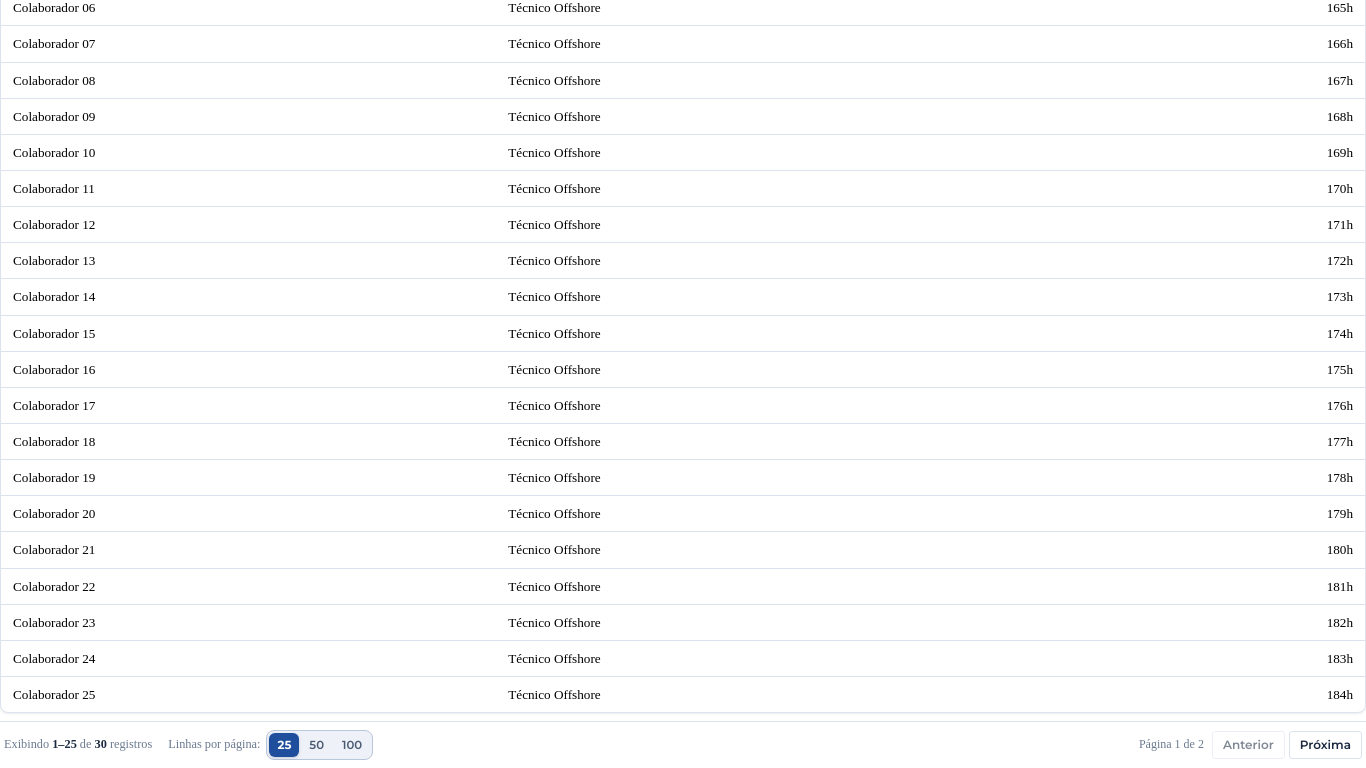
Test case: DataTable (Componente de Tabelas Corporativas) › navega entre páginas usando os botões "Próxima" e "Anterior"
The image size is (1366, 768).
(page scrolled)
Expected: the button "Anterior" is disabled, x1=1212 y1=731 x2=1285 y2=759
Click the button "Próxima" at [1325, 745], box x1=1289 y1=731 x2=1362 y2=759
(page scrolled)
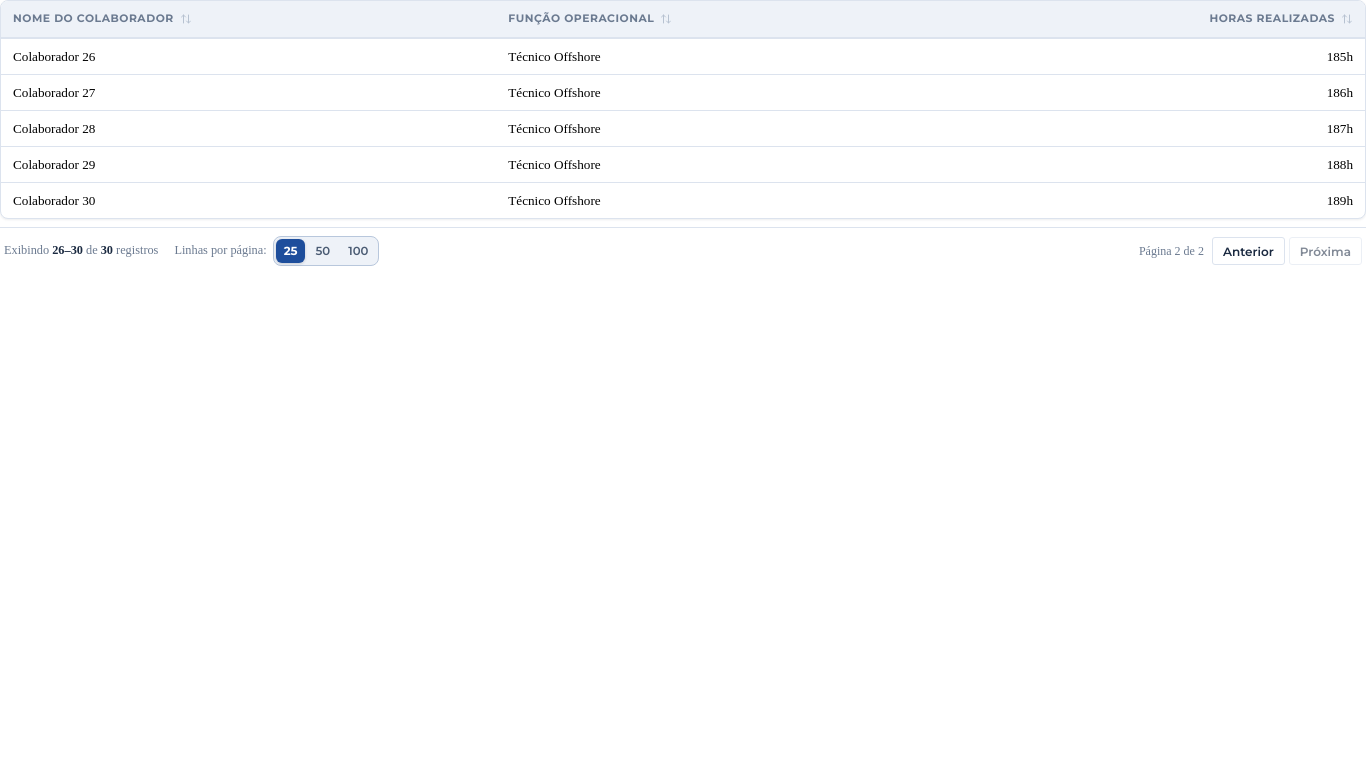
Now the text "Página 2 de 2" is shown, box x1=1139 y1=243 x2=1204 y2=260
Now the text "Colaborador 26" is shown, box x1=1 y1=38 x2=496 y2=74
Now the button "Próxima" is disabled, box x1=1289 y1=237 x2=1362 y2=265
Click the button "Anterior" at [1248, 251], box x1=1212 y1=237 x2=1285 y2=265
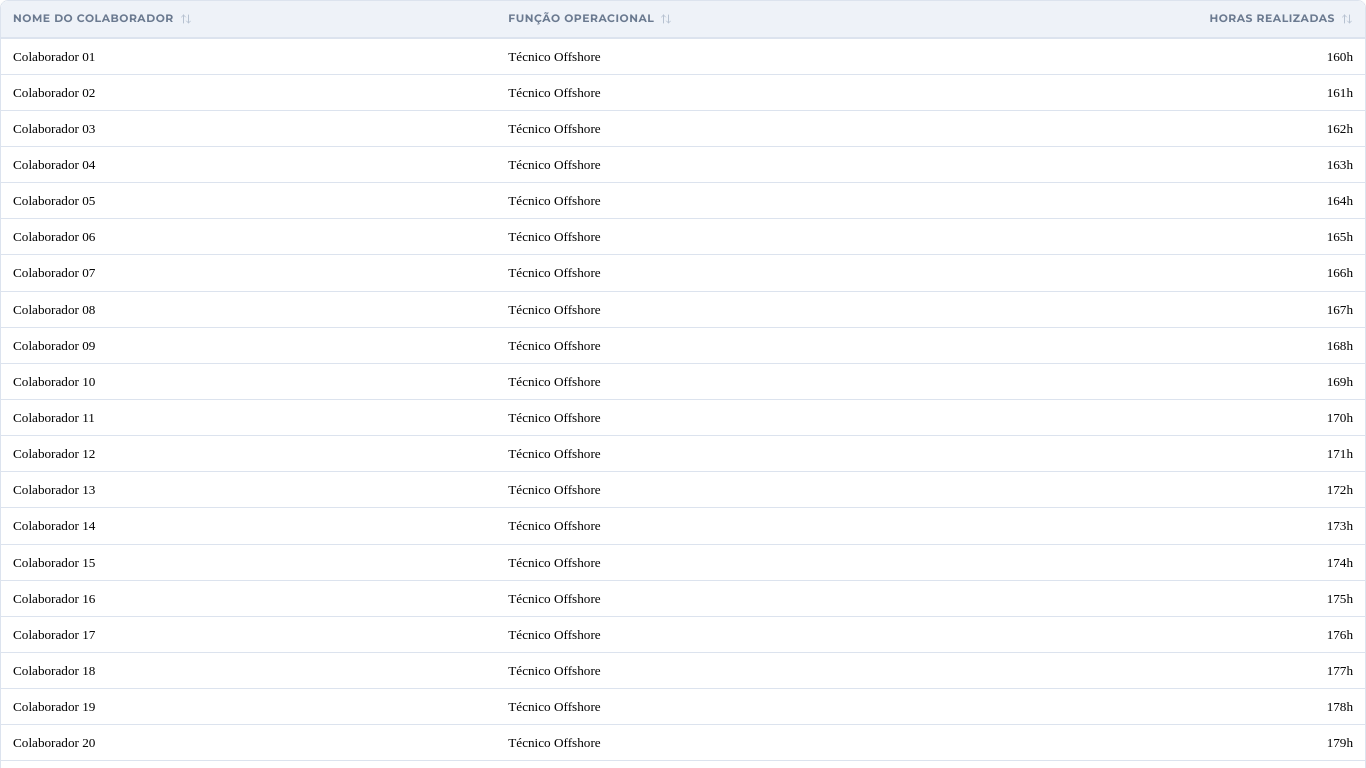
Now the text "Colaborador 01" is shown, box x1=1 y1=38 x2=496 y2=74
